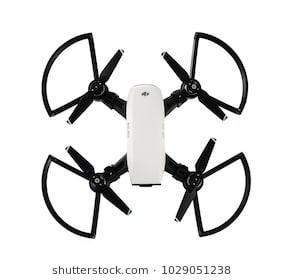drone: (40, 29, 253, 240)
